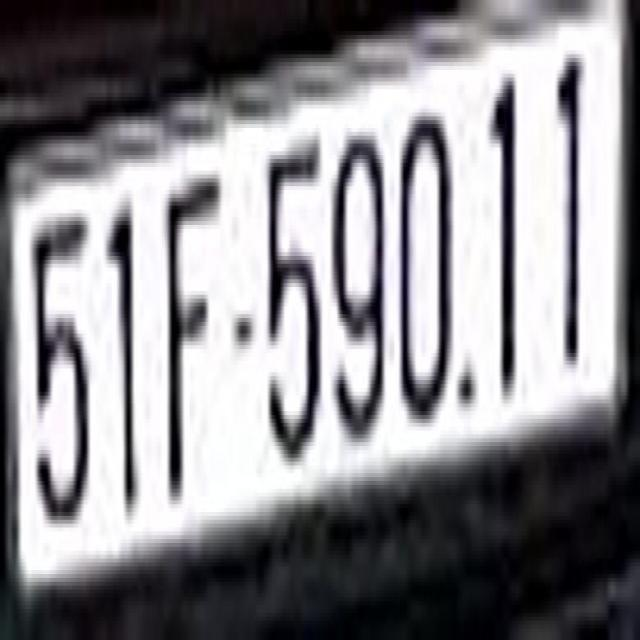0: (396, 101, 457, 419)
1: (102, 182, 146, 516), (550, 23, 590, 380), (484, 54, 520, 414)
5: (264, 124, 326, 473), (29, 194, 92, 532)
9: (332, 112, 386, 446)
F: (160, 163, 224, 512)
